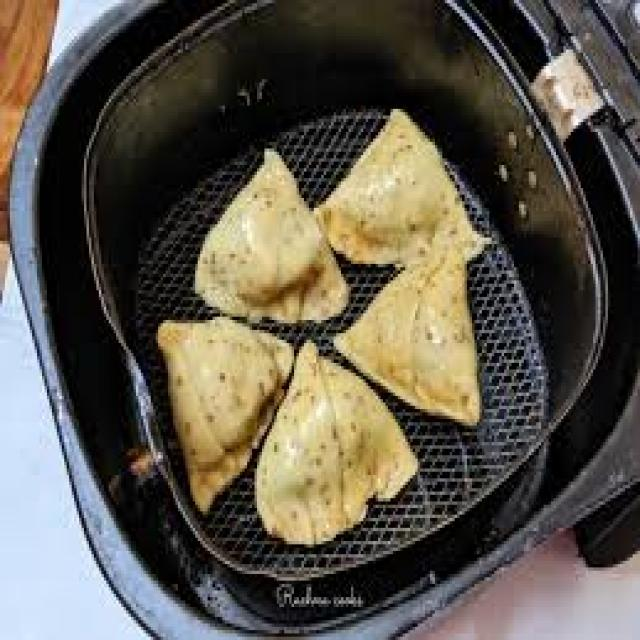SAMOSA: (260, 349, 410, 542), (162, 314, 295, 522), (316, 114, 480, 268), (340, 236, 476, 421), (197, 153, 338, 318)
